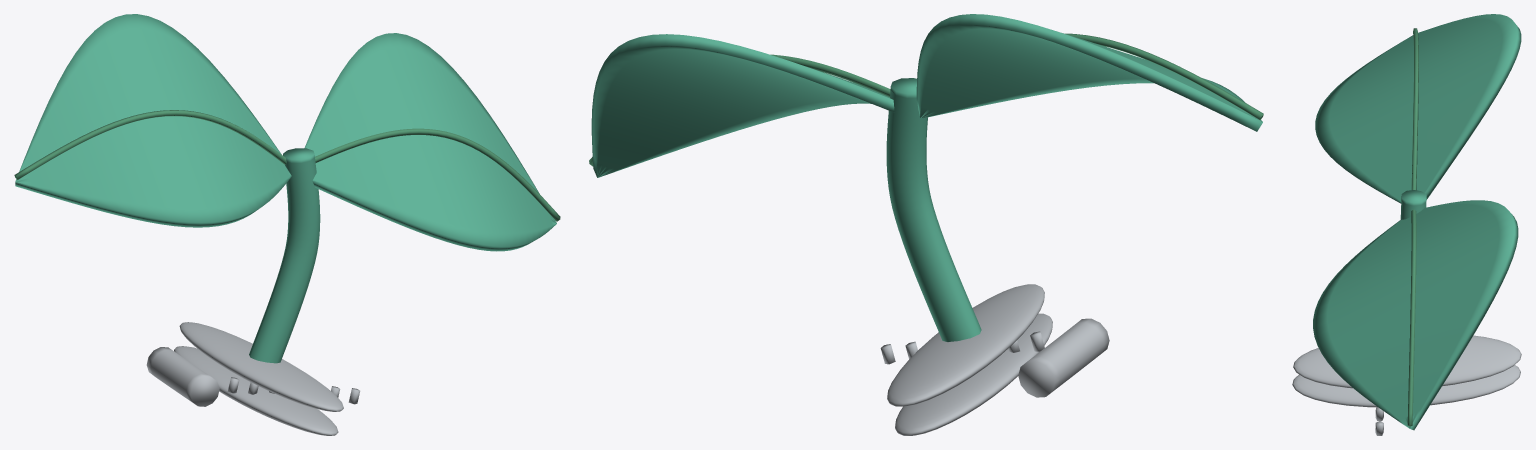
Rendered from Feminine-ponytail-sprout.glb.
The picture shows the model from 3 angles, left to right: view 1: azimuth 30°, elevation 25°; view 2: azimuth 150°, elevation 25°; view 3: azimuth 270°, elevation 25°; orthographic projection. The views are drawn at different scales.
Parts seen in each view (by area): view 1: 226 extra / Accessory / mint226, 226 extra / Sprout / clip silver235, 226 extra / Sprout / leaf vein235; view 2: 226 extra / Accessory / mint226, 226 extra / Sprout / clip silver235, 226 extra / Sprout / leaf vein235; view 3: 226 extra / Accessory / mint226, 226 extra / Sprout / clip silver235, 226 extra / Sprout / leaf vein235.
Part boxes in pixels (box(x1,y1,x2,y2)): 226 extra / Accessory / mint226: box(15, 14, 556, 363); 226 extra / Sprout / clip silver235: box(146, 322, 360, 435); 226 extra / Sprout / leaf vein235: box(14, 110, 560, 221); 226 extra / Accessory / mint226: box(591, 14, 1262, 341); 226 extra / Sprout / clip silver235: box(880, 284, 1109, 435); 226 extra / Sprout / leaf vein235: box(589, 33, 1263, 166); 226 extra / Accessory / mint226: box(1313, 14, 1521, 430); 226 extra / Sprout / clip silver235: box(1292, 335, 1521, 435); 226 extra / Sprout / leaf vein235: box(1407, 28, 1418, 426).
Bounding box in the file's own units: 0.2156 × 0.1413 × 0.0868.
